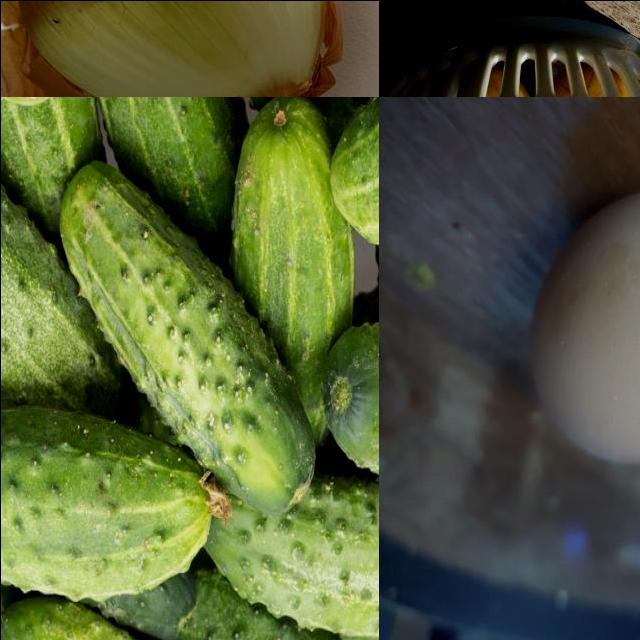cucumber: (55, 151, 319, 521), (225, 97, 358, 483), (1, 410, 209, 596), (203, 475, 379, 640), (325, 319, 379, 488)
egg: (523, 180, 640, 476)
onion: (14, 1, 349, 97)
